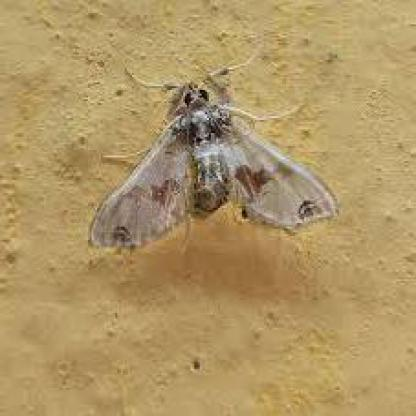leucinodes: (84, 87, 343, 251)
